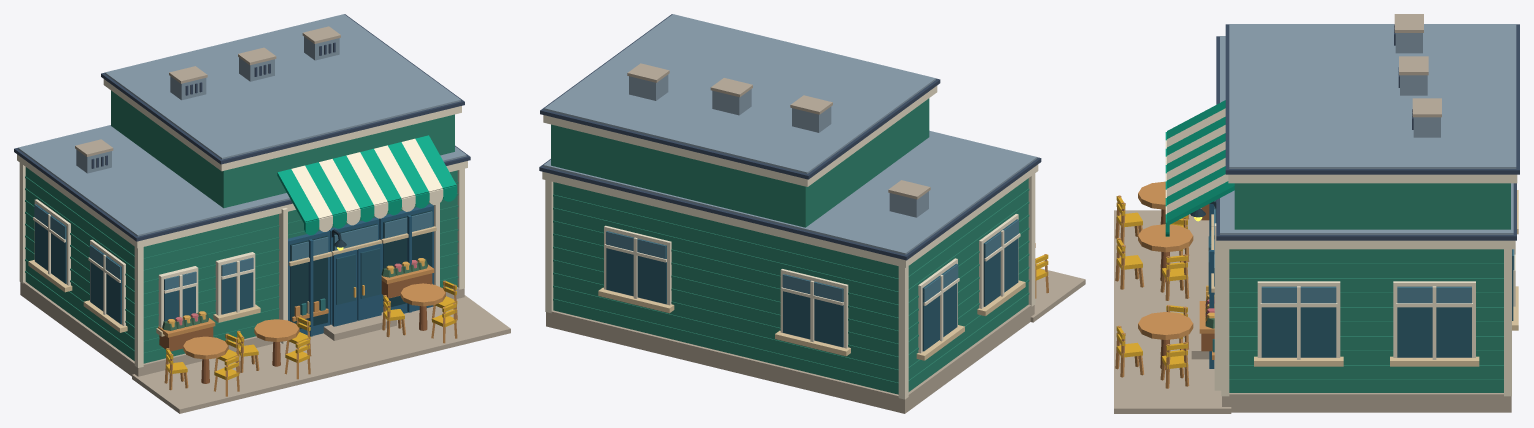
Rendered from seafoam_cafe.glb.
3 views of the same model, side by side, from view 1: azimuth 30°, elevation 25°; view 2: azimuth 150°, elevation 25°; view 3: azimuth 270°, elevation 25° (orthographic). The views are drawn at different scales.
Visible parts, largest first — view 1: seafoam_cafe; view 2: seafoam_cafe; view 3: seafoam_cafe.
Boxes of the visible parts, box(x1,y1,x2,y2) form: seafoam_cafe: box(14, 14, 510, 413); seafoam_cafe: box(539, 14, 1085, 413); seafoam_cafe: box(1114, 14, 1519, 413).
Bounding box in the file's own units: 9.52 × 5.97 × 8.11.
